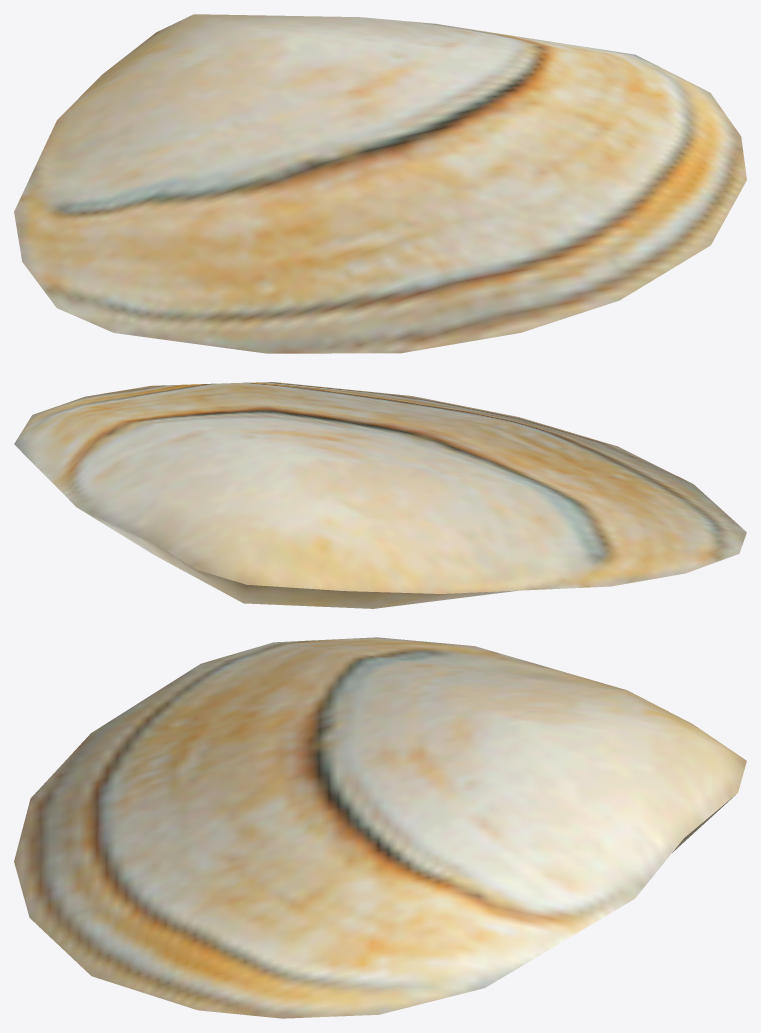
File: SeaShell-02_LOD0_newsmall.glb
3 views of the same model, one above another, from view 1: azimuth 30°, elevation 25°; view 2: azimuth 150°, elevation 25°; view 3: azimuth 270°, elevation 25° (orthographic). The views are drawn at different scales.
Parts seen in each view (by area): view 1: SeaShell-02_high; view 2: SeaShell-02_high; view 3: SeaShell-02_high.
Boxes of the visible parts, left/top/right/bottom form: SeaShell-02_high: left=14, top=14, right=746, bottom=353; SeaShell-02_high: left=14, top=382, right=746, bottom=608; SeaShell-02_high: left=14, top=637, right=746, bottom=1018.
Size of the model in its own units: 0.1145 by 0.0237 by 0.0924.
Materials: 1 (1 with a texture image).
